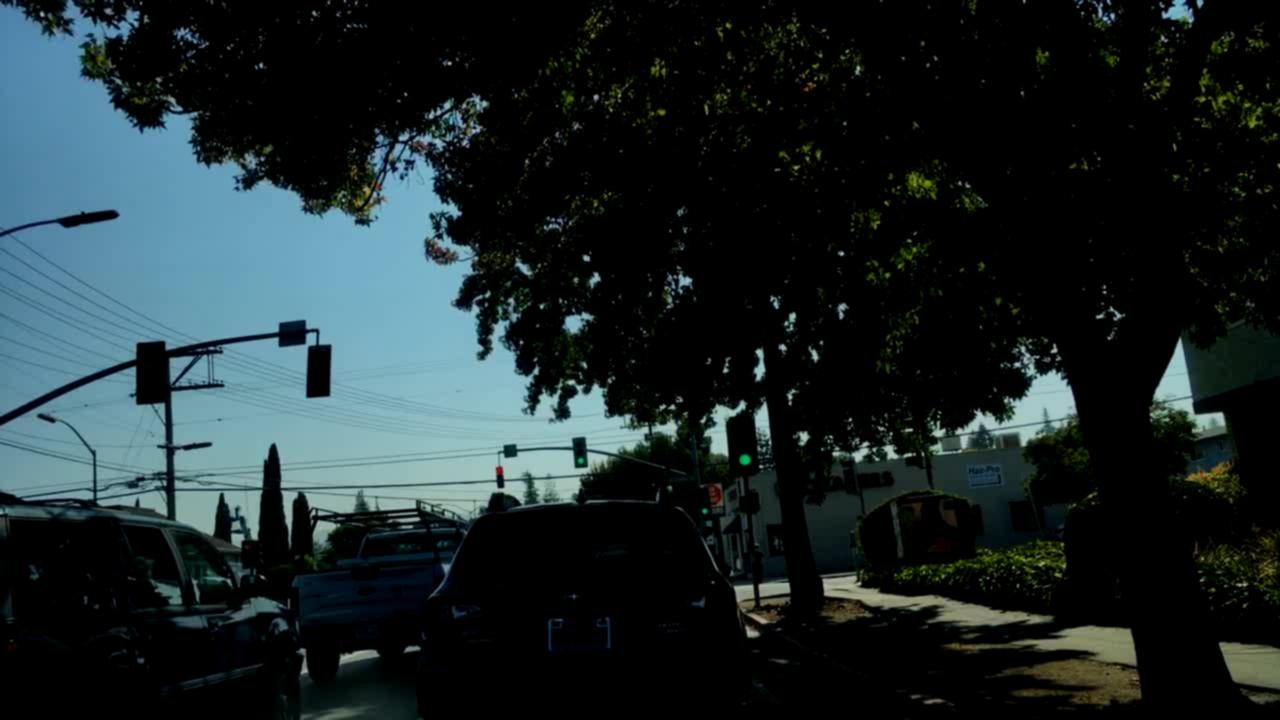subaru: (562, 588, 596, 610)
